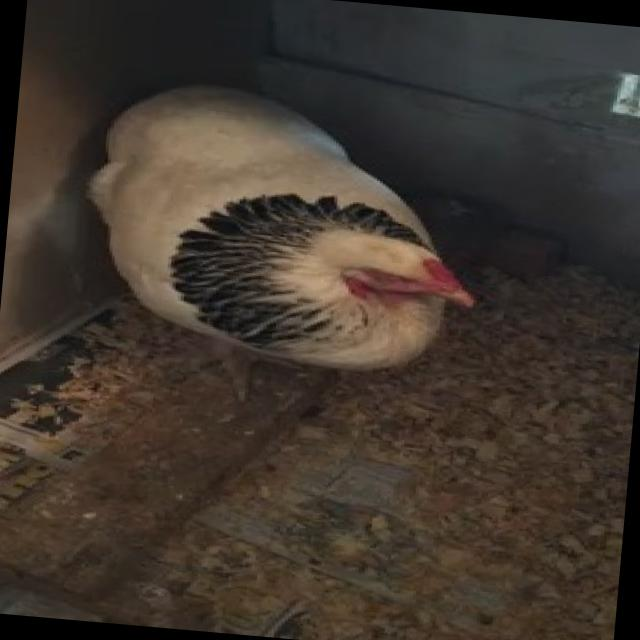Breathing: (72, 72, 496, 383)
